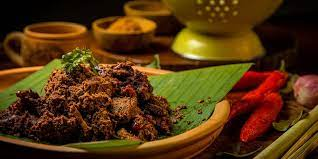rendang: (10, 32, 197, 151)
